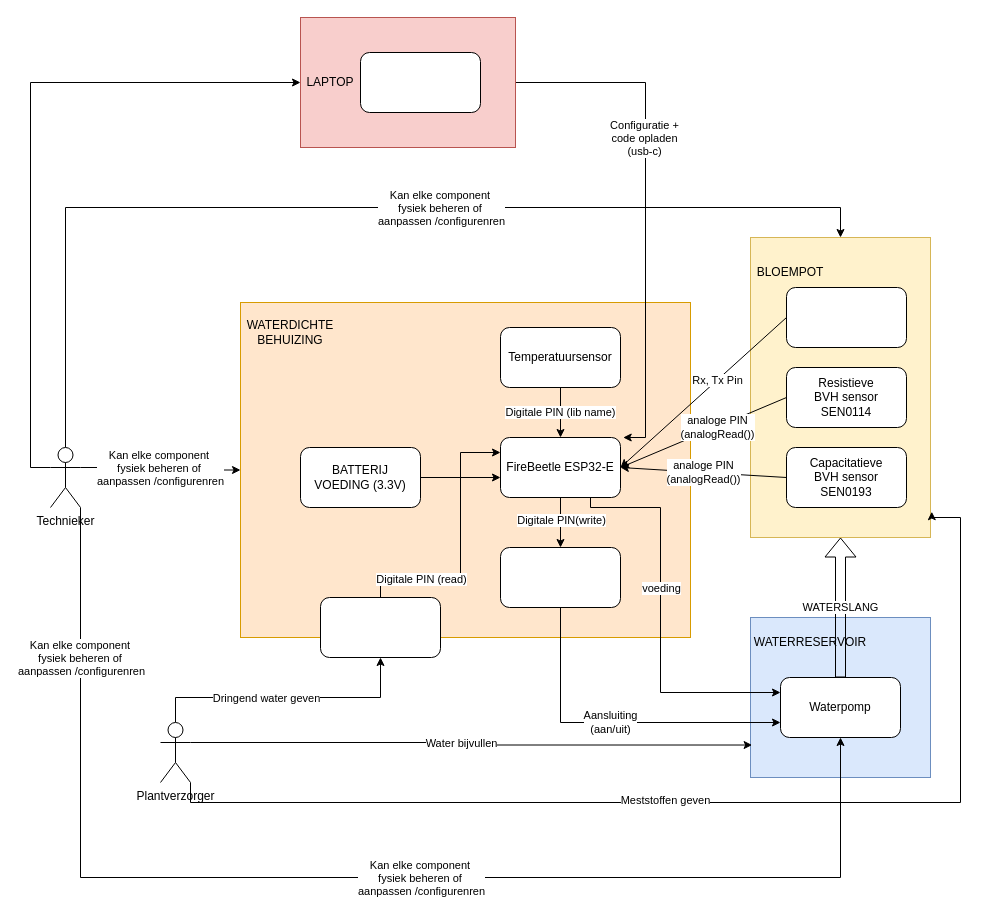
The diagram is 986 pixels wide and 915 high, and some of its shapes have lost their labels. The centre of each missing label's shape, as x and y in pixels:
"GPS" goes at [846,317].
"PANIC BUTTON" goes at [380,627].
"RELAIS" goes at [560,577].
"VS CODE" goes at [420,82].
